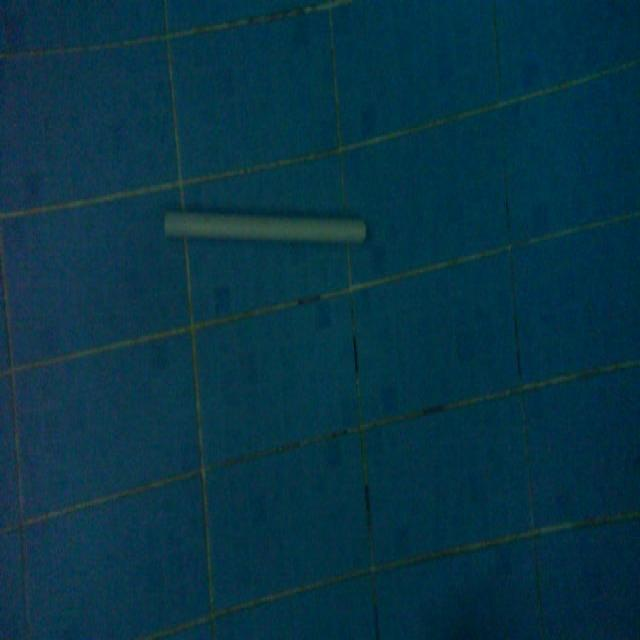Cube: (161, 203, 368, 249)
